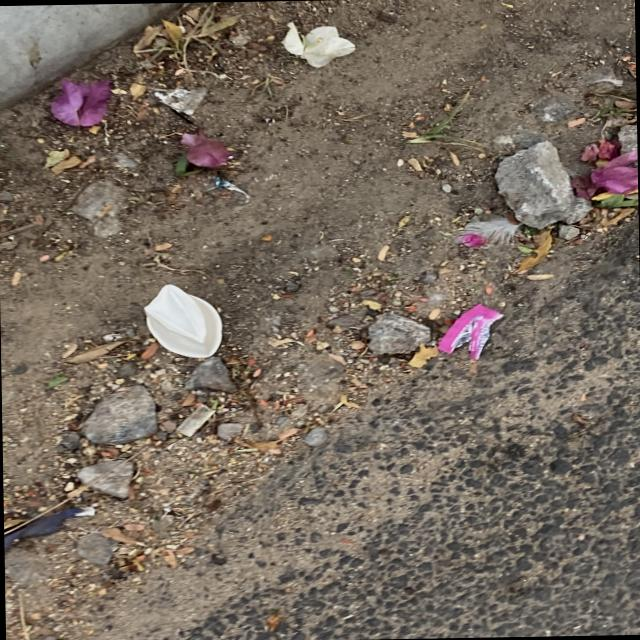giay_goi: (438, 304, 503, 360)
ly_hop_giay: (143, 284, 221, 358)
